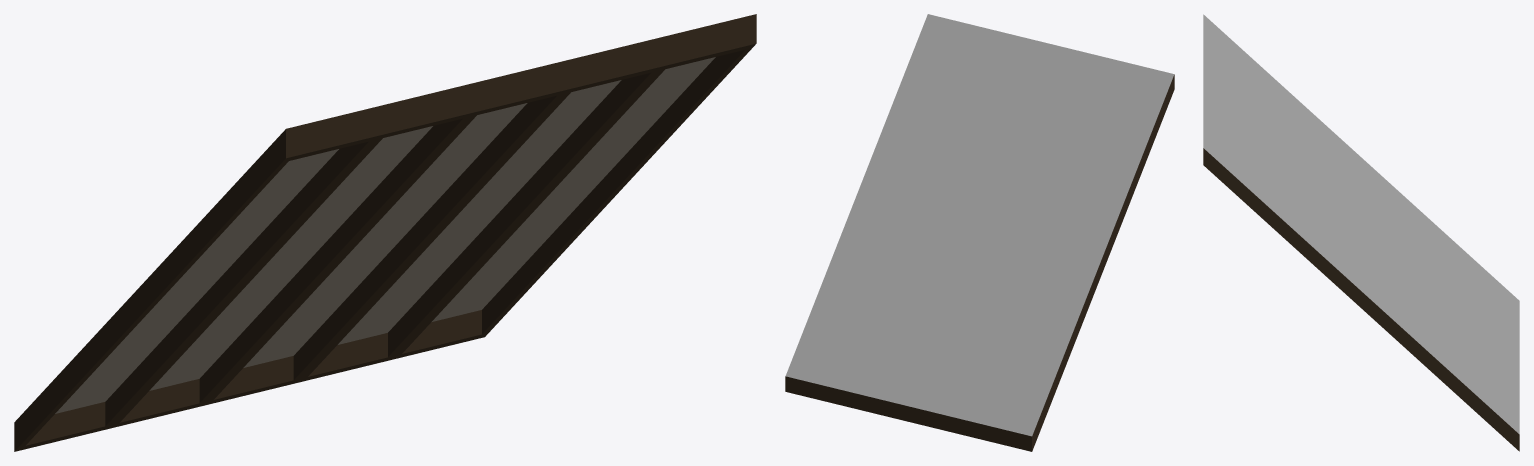
File: Ceiling_10x10_30cmBeams_2mSpacing_CrossBeams.fbx
3 renders of one model, left to right at view 1: azimuth 30°, elevation 25°; view 2: azimuth 150°, elevation 25°; view 3: azimuth 270°, elevation 25°, orthographic. The views are drawn at different scales.
Visible parts, largest first — view 1: Ceiling_10x10_30cmBeams_2mSpacing_CrossBeams; view 2: Ceiling_10x10_30cmBeams_2mSpacing_CrossBeams; view 3: Ceiling_10x10_30cmBeams_2mSpacing_CrossBeams.
Boxes of the visible parts, left/top/right/bottom form: Ceiling_10x10_30cmBeams_2mSpacing_CrossBeams: left=14, top=14, right=756, bottom=451; Ceiling_10x10_30cmBeams_2mSpacing_CrossBeams: left=785, top=14, right=1174, bottom=451; Ceiling_10x10_30cmBeams_2mSpacing_CrossBeams: left=1203, top=14, right=1519, bottom=451.
Bounding box in the file's own units: 10 × 10.6 × 10.
